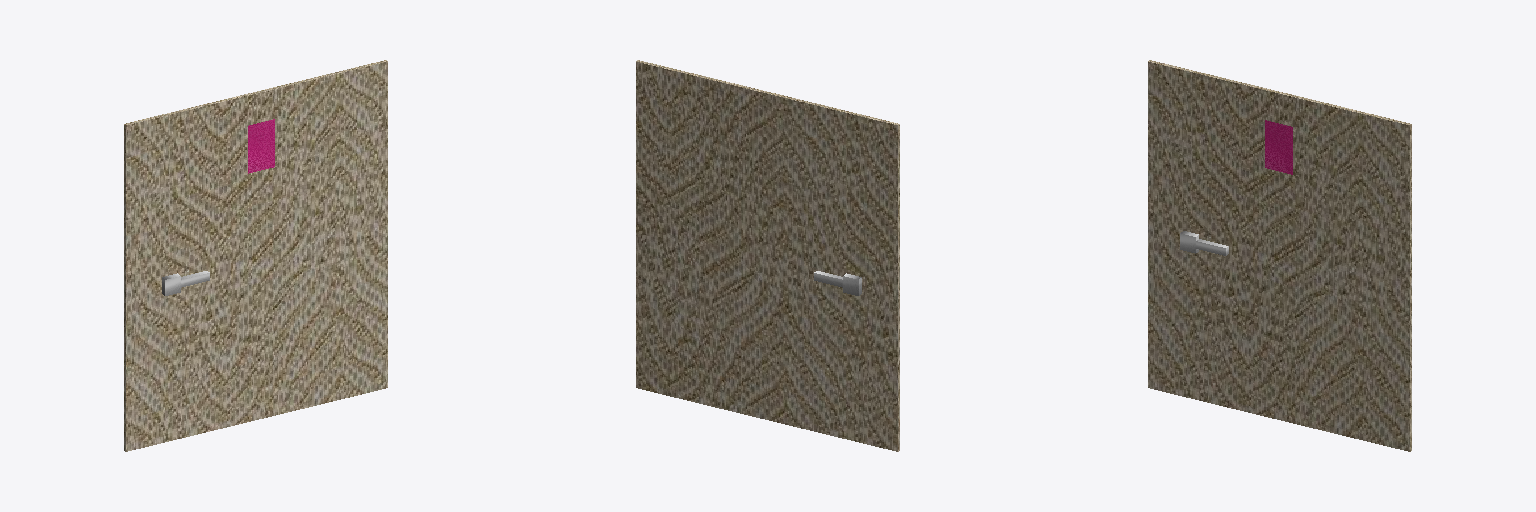
3 renders of one model, left to right at view 1: azimuth 30°, elevation 25°; view 2: azimuth 150°, elevation 25°; view 3: azimuth 330°, elevation 25°, orthographic.
Parts seen in each view (by area): view 1: Cubo.003, Plane, Cube; view 2: Cubo.003, Cube; view 3: Cubo.003, Plane, Cube.
Part boxes in pixels (x1,y1,x2,y2): Cubo.003: (124, 60, 387, 451); Plane: (248, 119, 274, 173); Cube: (162, 271, 209, 295); Cubo.003: (636, 60, 899, 451); Cube: (814, 271, 861, 295); Cubo.003: (1148, 60, 1411, 451); Plane: (1265, 120, 1292, 174); Cube: (1180, 231, 1228, 255).
Size of the model in its own units: 6.26 by 7.43 by 0.3753.
Materials: 3 (3 with a texture image).